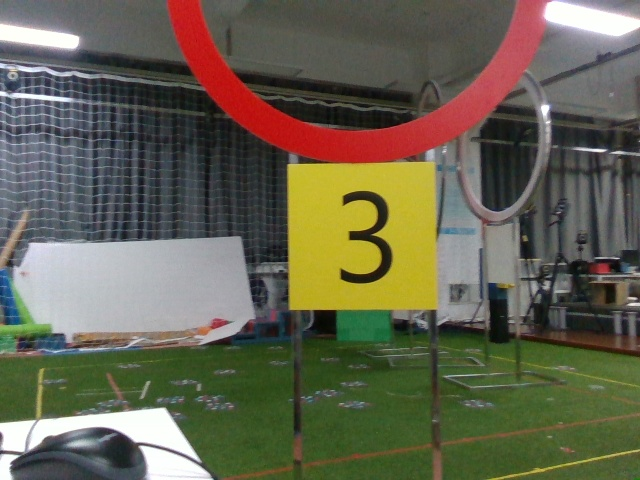target: (291, 173, 437, 305)
